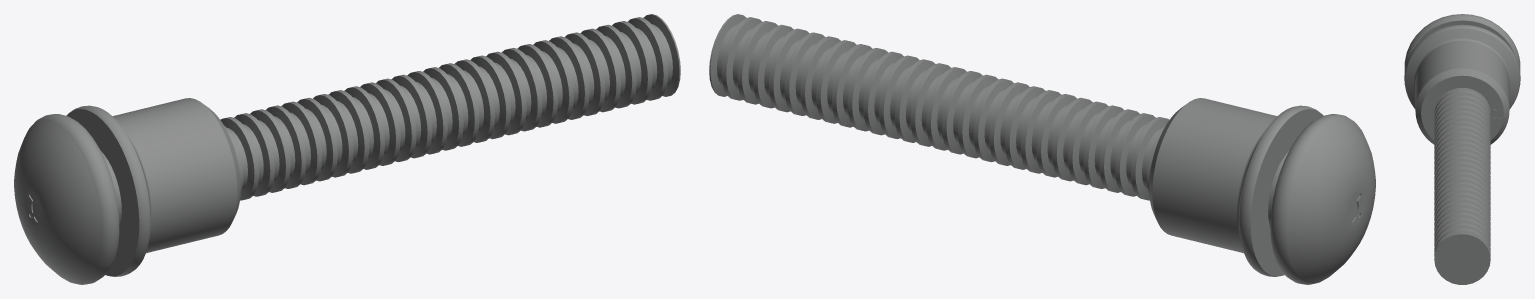
Rendered from magnagrip.glb.
3 renders of one model, left to right at view 1: azimuth 30°, elevation 25°; view 2: azimuth 150°, elevation 25°; view 3: azimuth 270°, elevation 25°, orthographic. The views are drawn at different scales.
Parts seen in each view (by area): view 1: Unnamed; view 2: Unnamed; view 3: Unnamed.
Boxes of the visible parts, box(x1,y1,x2,y2) form: Unnamed: box(14, 14, 680, 284); Unnamed: box(709, 14, 1375, 284); Unnamed: box(1404, 14, 1520, 284).
Size of the model in its own units: 0.0547 by 0.0132 by 0.0132.
1 material, 1 textured.
